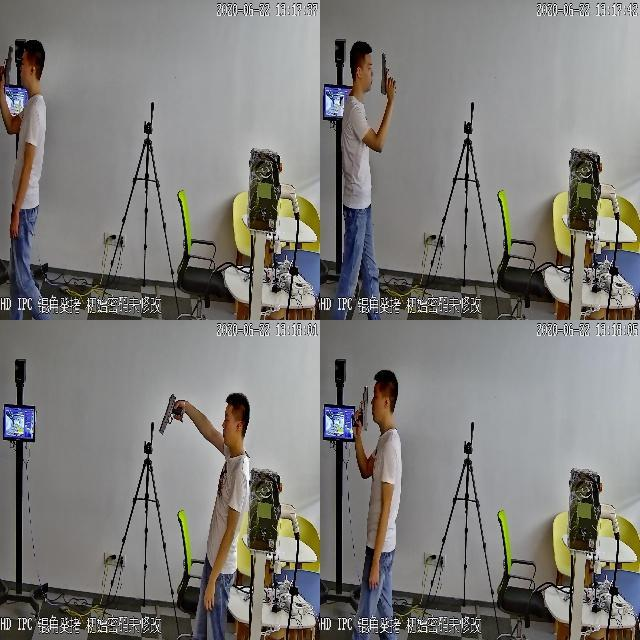gun-knife-thesis - v11 Yolov5 augmented: (156, 392, 183, 434), (350, 380, 368, 428), (378, 49, 396, 96), (0, 41, 14, 88)
